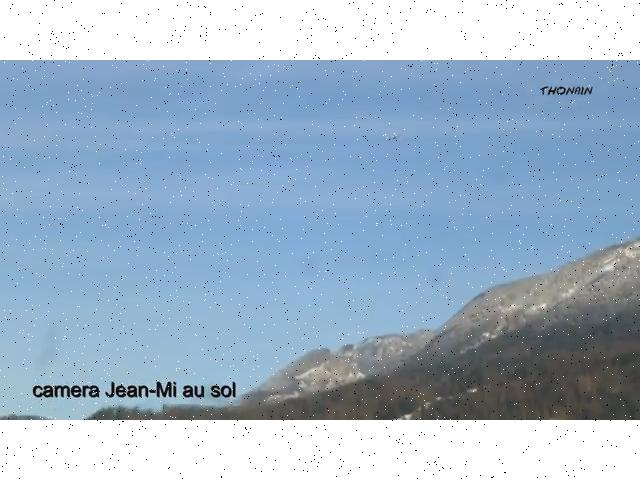Anti-Drone: (374, 127, 418, 149)
